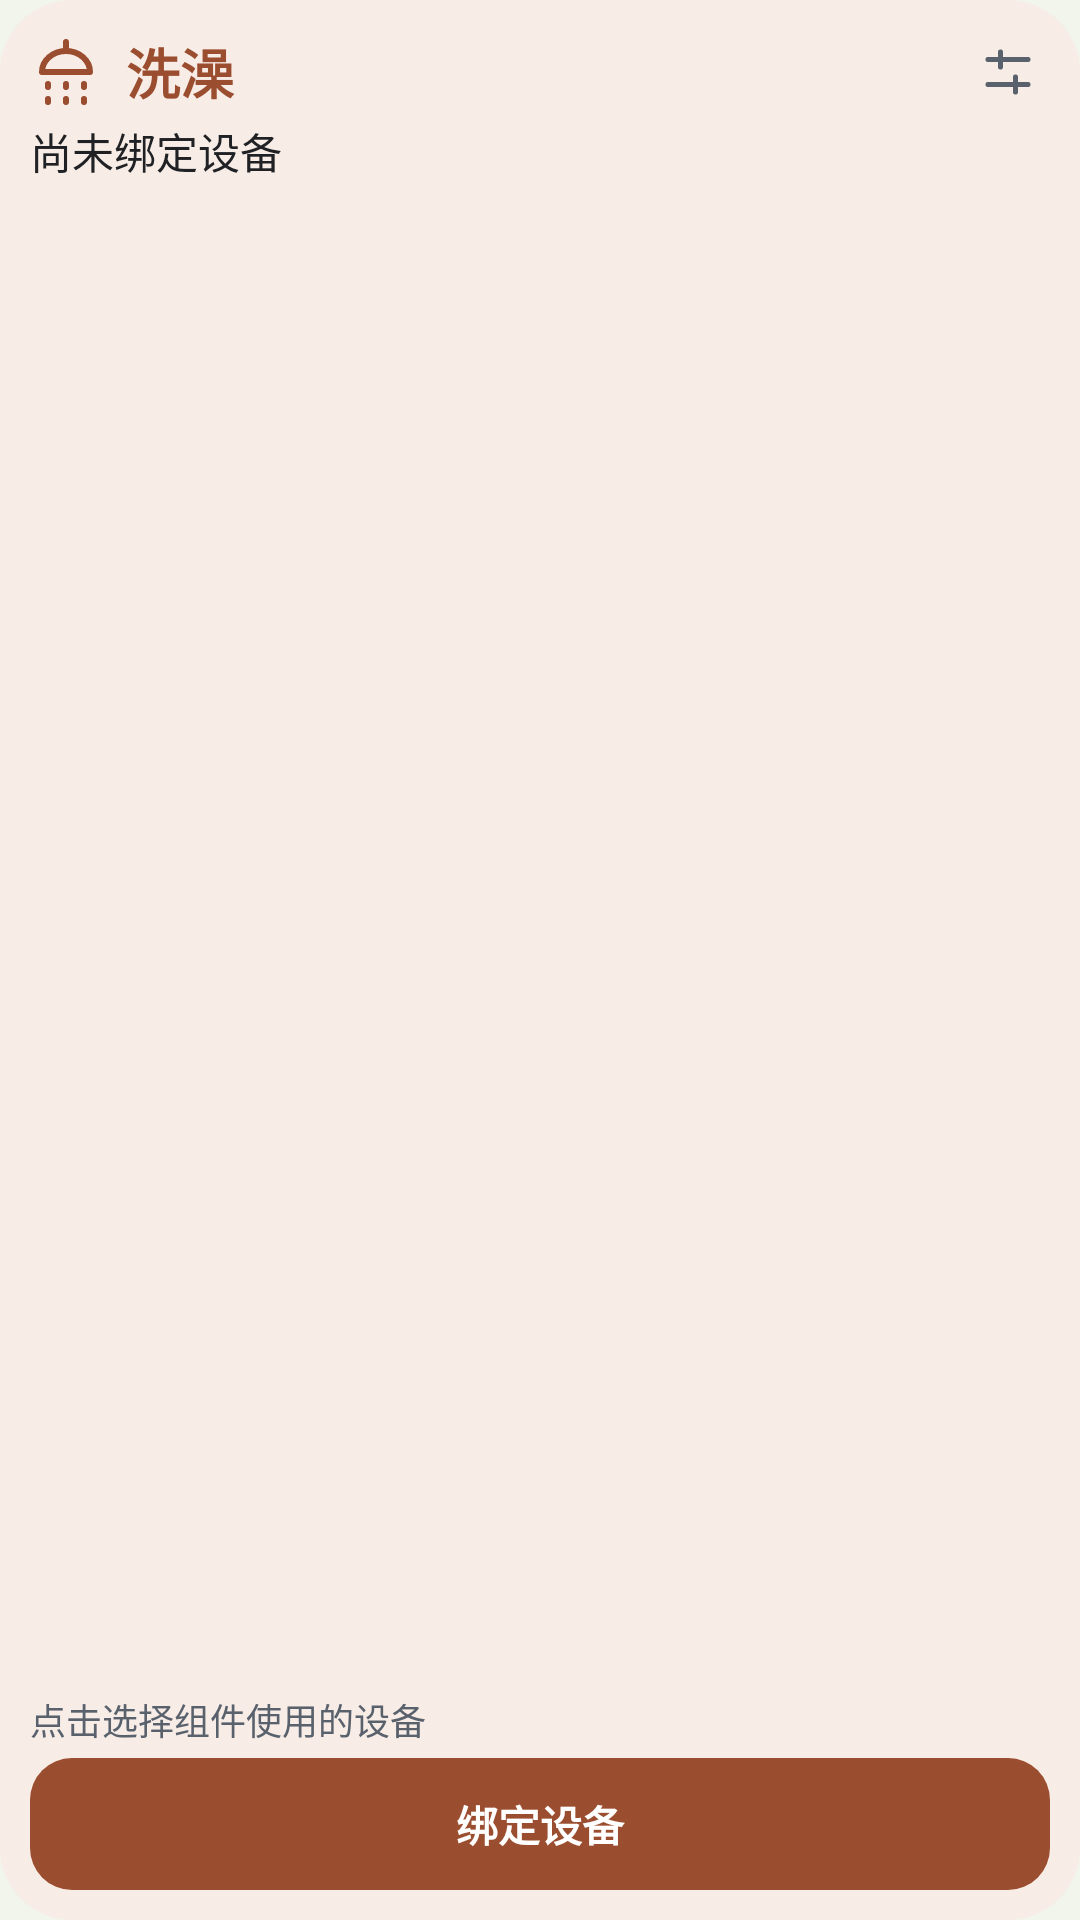

Icons on this 1080px x 1920px Android screen, each with the point to tap as (x=x, y=y):
widget shower: (x=66, y=72)
